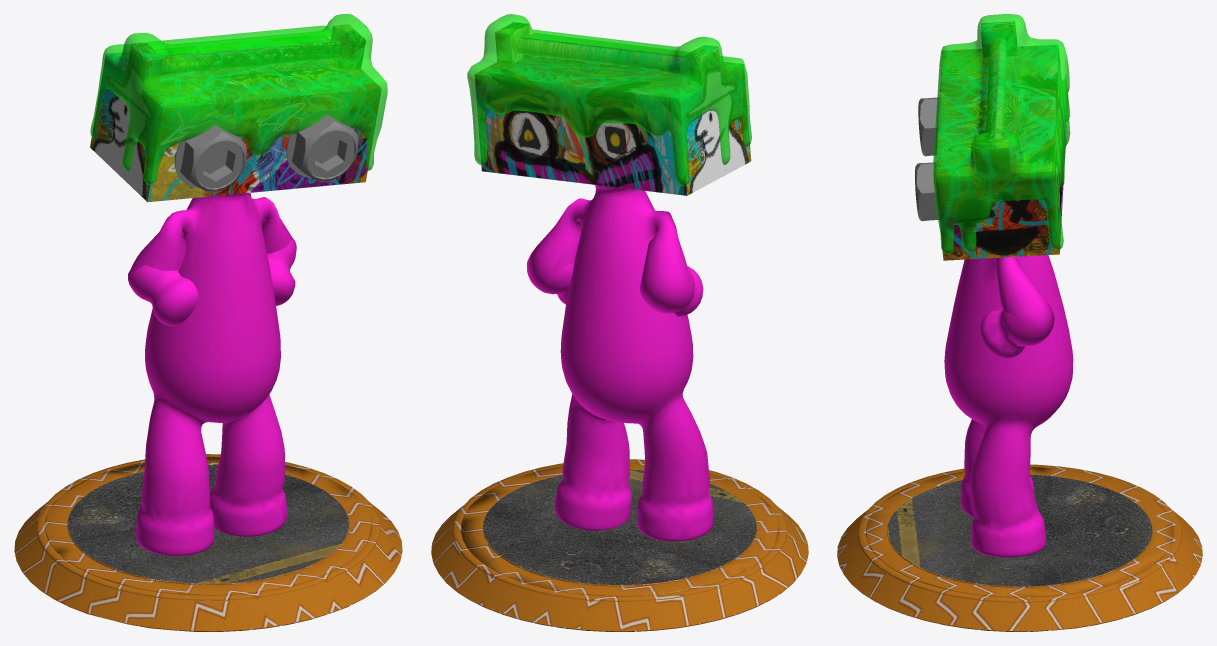
3 renders of one model, left to right at view 1: azimuth 30°, elevation 25°; view 2: azimuth 150°, elevation 25°; view 3: azimuth 270°, elevation 25°, orthographic. The views are drawn at different scales.
Parts seen in each view (by area): view 1: BBody; view 2: BBody; view 3: BBody.
Part boxes in pixels (<box>): BBody: <box>14,14,402,631</box>; BBody: <box>431,14,808,631</box>; BBody: <box>837,14,1202,631</box>.
Bounding box in the file's own units: 1.45 × 2.21 × 1.45.
Materials: 6 (3 with a texture image).
